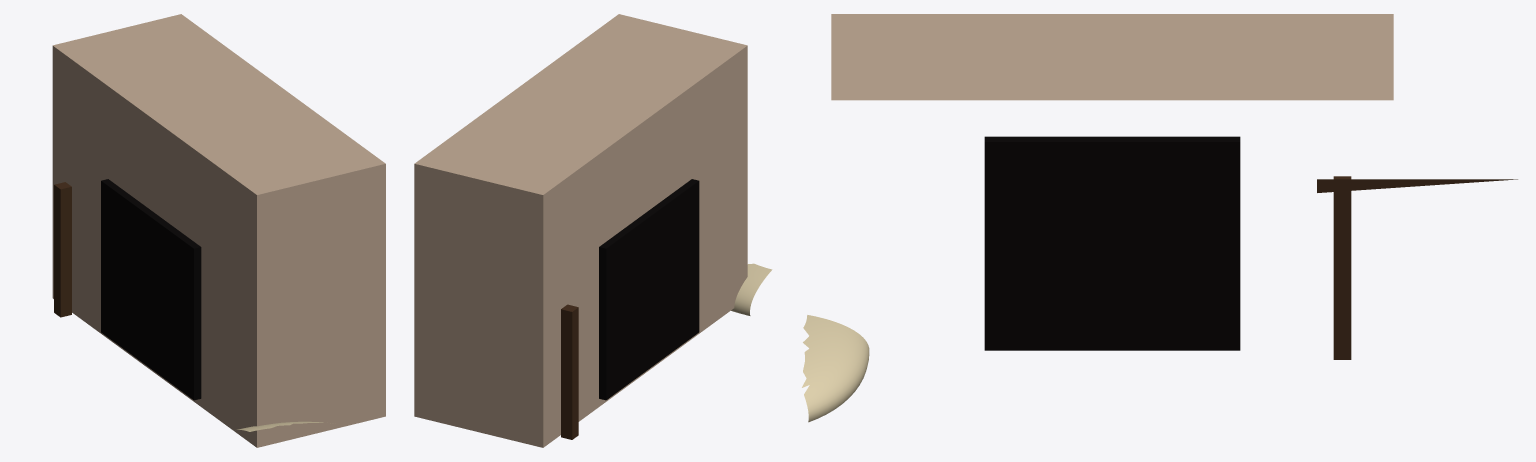
Rendered from ato2_lareira_1950.glb.
3 views of the same model, side by side, from view 1: azimuth 30°, elevation 25°; view 2: azimuth 150°, elevation 25°; view 3: azimuth 270°, elevation 25° (orthographic). The views are drawn at different scales.
Visible parts, largest first — view 1: Malha_0; view 2: Malha_0; view 3: Malha_0.
Part boxes in pixels (x1=…): Malha_0: x1=52, y1=14, x2=385, y2=447; Malha_0: x1=414, y1=14, x2=772, y2=447; Malha_0: x1=802, y1=14, x2=1517, y2=422.
Bounding box in the file's own units: 0.9 × 1.52 × 2.82.
